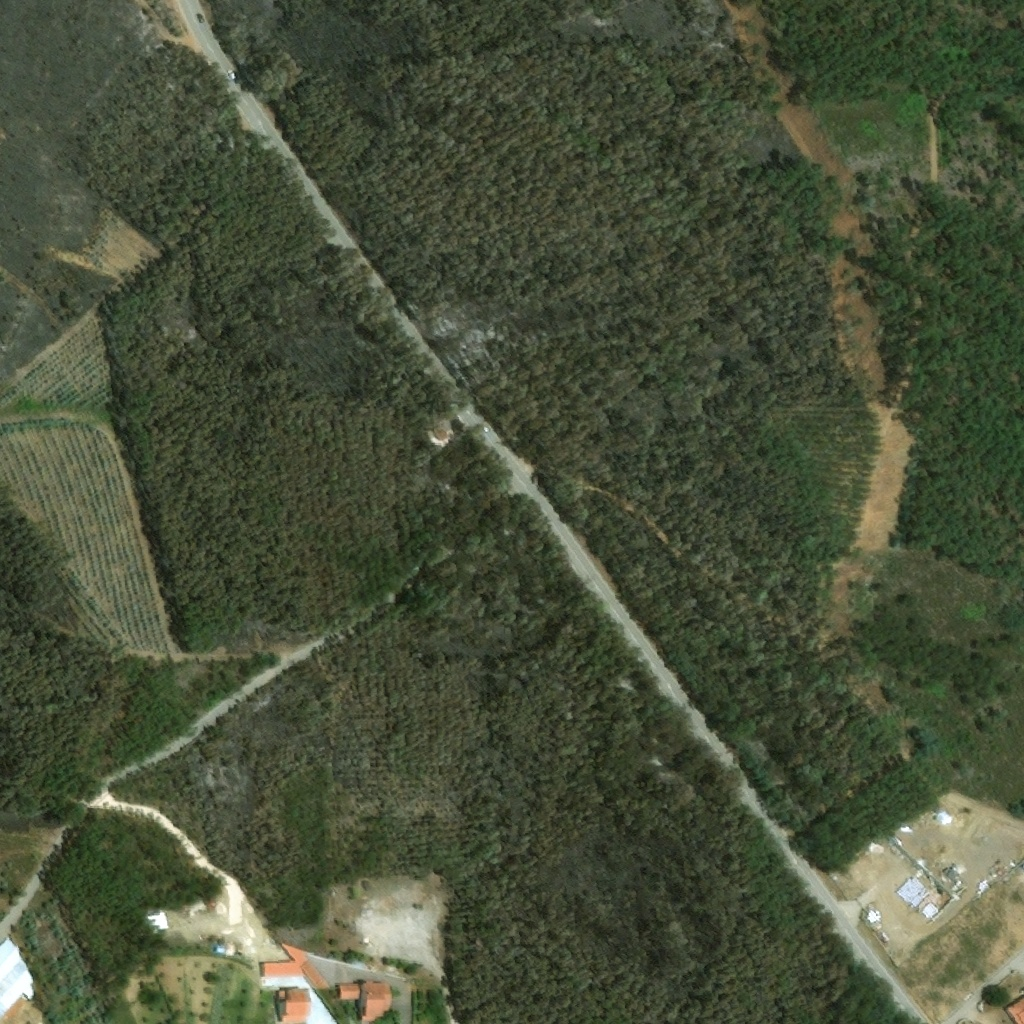0 no-damage: (0, 935, 35, 1023), (336, 980, 393, 1023), (280, 944, 331, 991), (274, 987, 311, 1023), (147, 912, 169, 933), (432, 428, 449, 441)
4 un-classified: (1005, 999, 1023, 1023)
